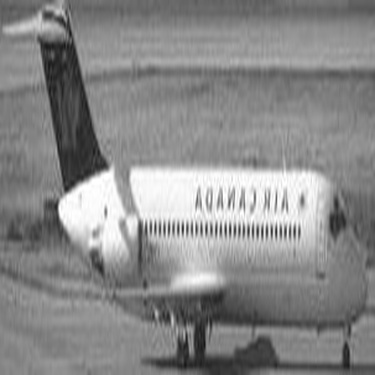airplane: (1, 3, 370, 372)
